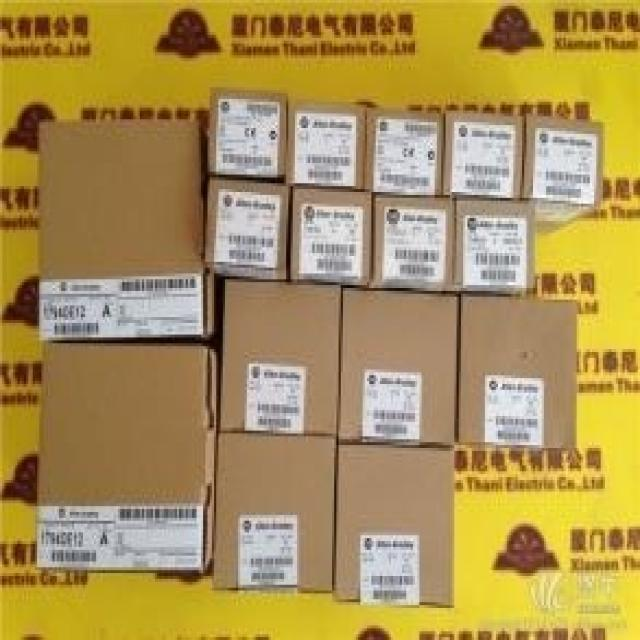box: (35, 345, 215, 573), (37, 122, 213, 343), (335, 442, 455, 608), (212, 431, 335, 592), (337, 292, 459, 449), (218, 281, 341, 436), (458, 297, 576, 452), (523, 116, 605, 245), (205, 175, 288, 281), (369, 192, 455, 292), (289, 186, 373, 288), (453, 199, 534, 295), (442, 112, 525, 199), (286, 101, 366, 190), (208, 88, 286, 179), (365, 107, 442, 195)
